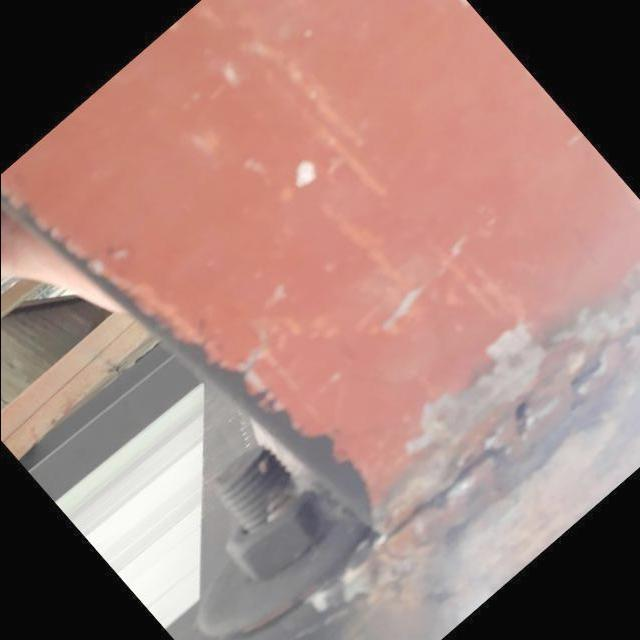defect: (379, 393, 535, 544), (560, 347, 611, 423)
